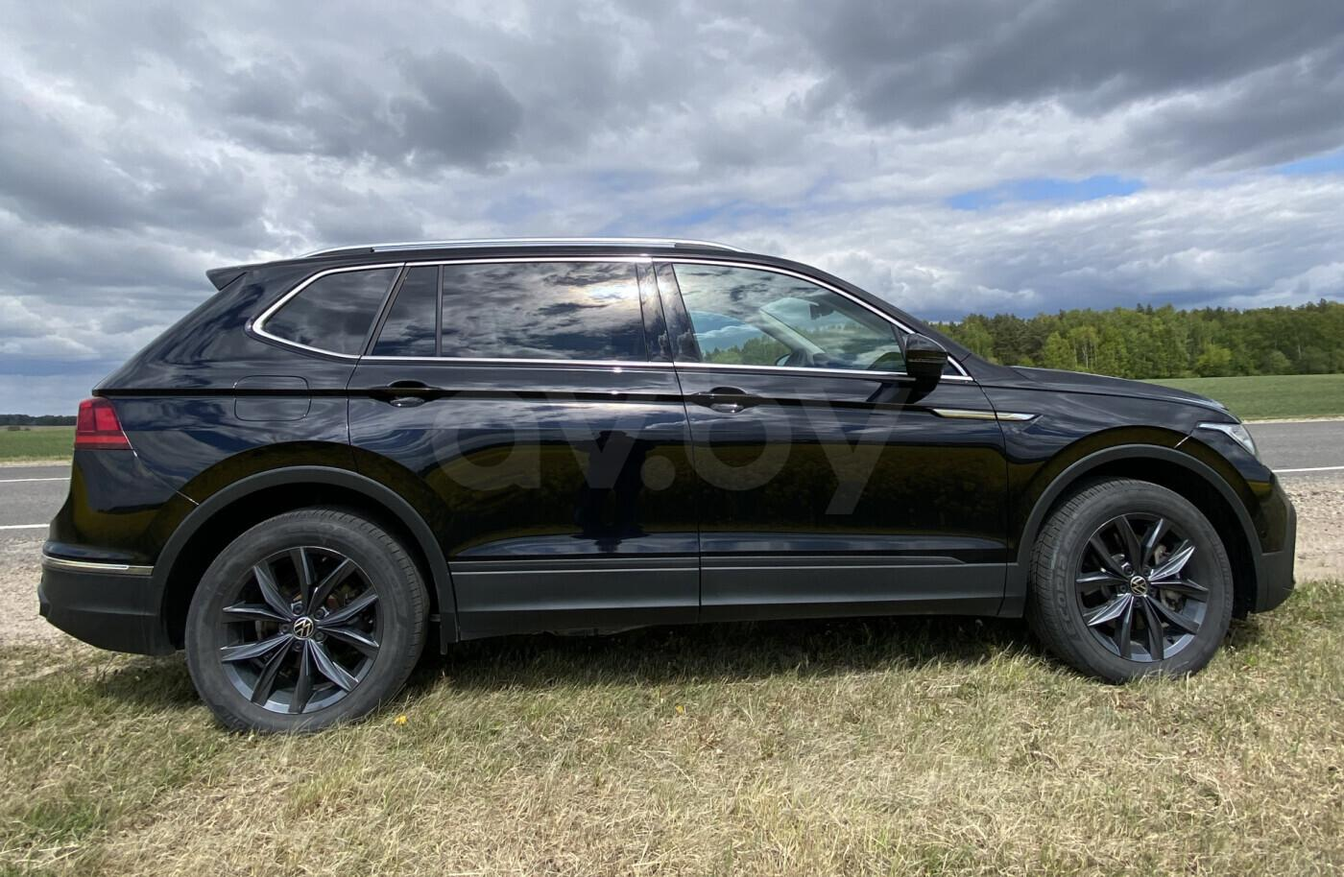Tiguan_2020-2024: (36, 237, 1303, 728)
